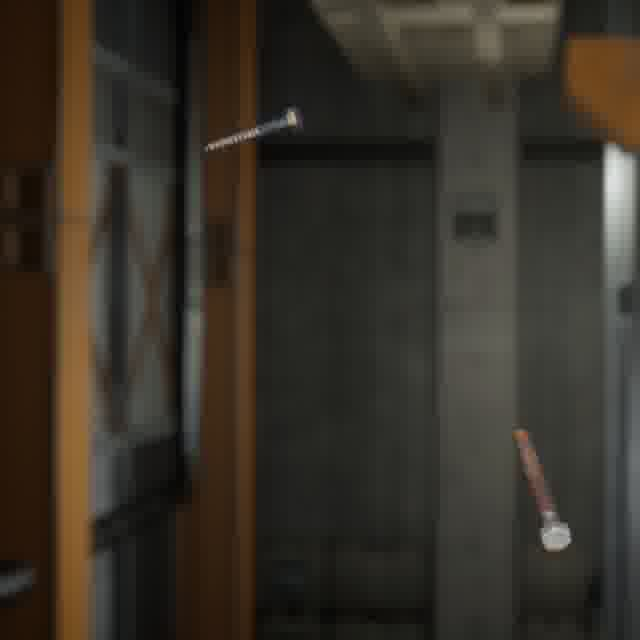bolt: (508, 424, 575, 555), (199, 102, 307, 155)
